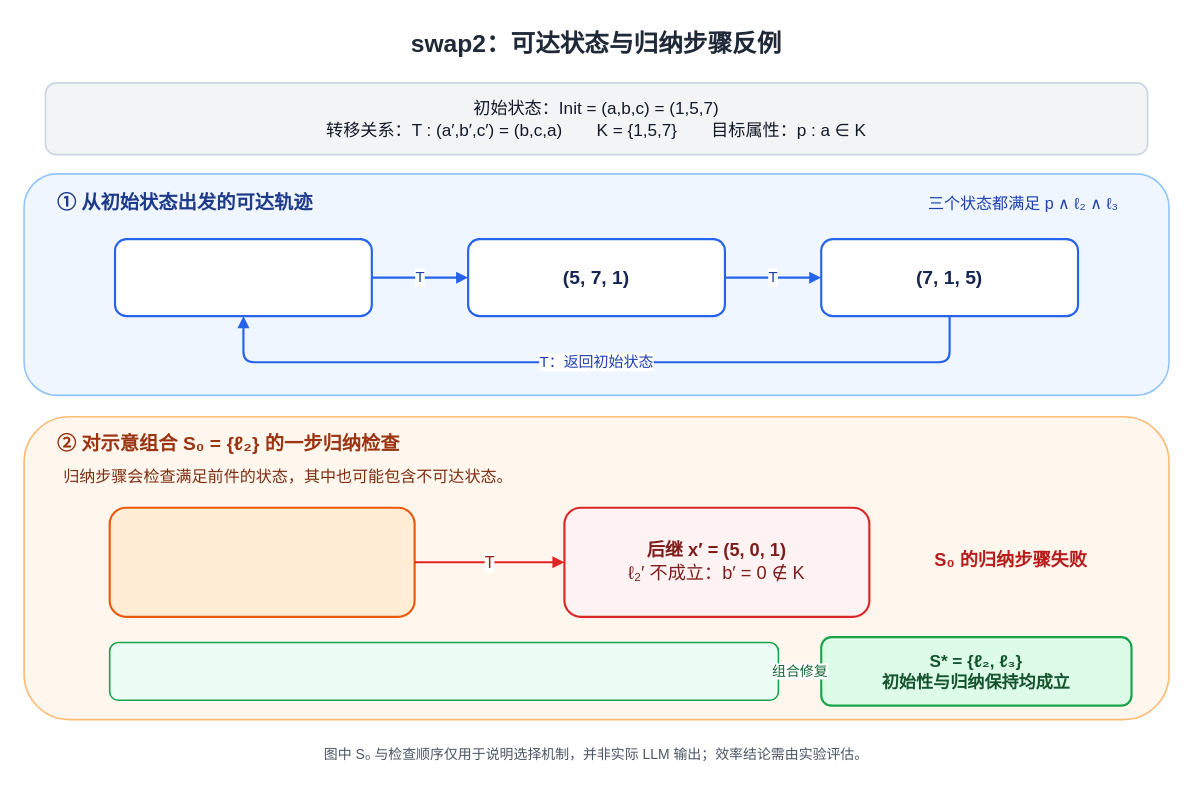
Image size: 1192x786. Some labels were removed from this diagram. The box of each missing label's shape, as (x1, y1, x2, y2) in pixels:
(1, 5, 7) 初始状态: (113, 238, 372, 317)
加入 ℓ₃： 源状态的 c = 0 ∉ K，因此该反例被排除。: (108, 641, 779, 701)
源状态 x = (1, 5, 0) p ✓，ℓ₂ ✓；ℓ₃ ✗ 不可达状态: (108, 506, 415, 617)
